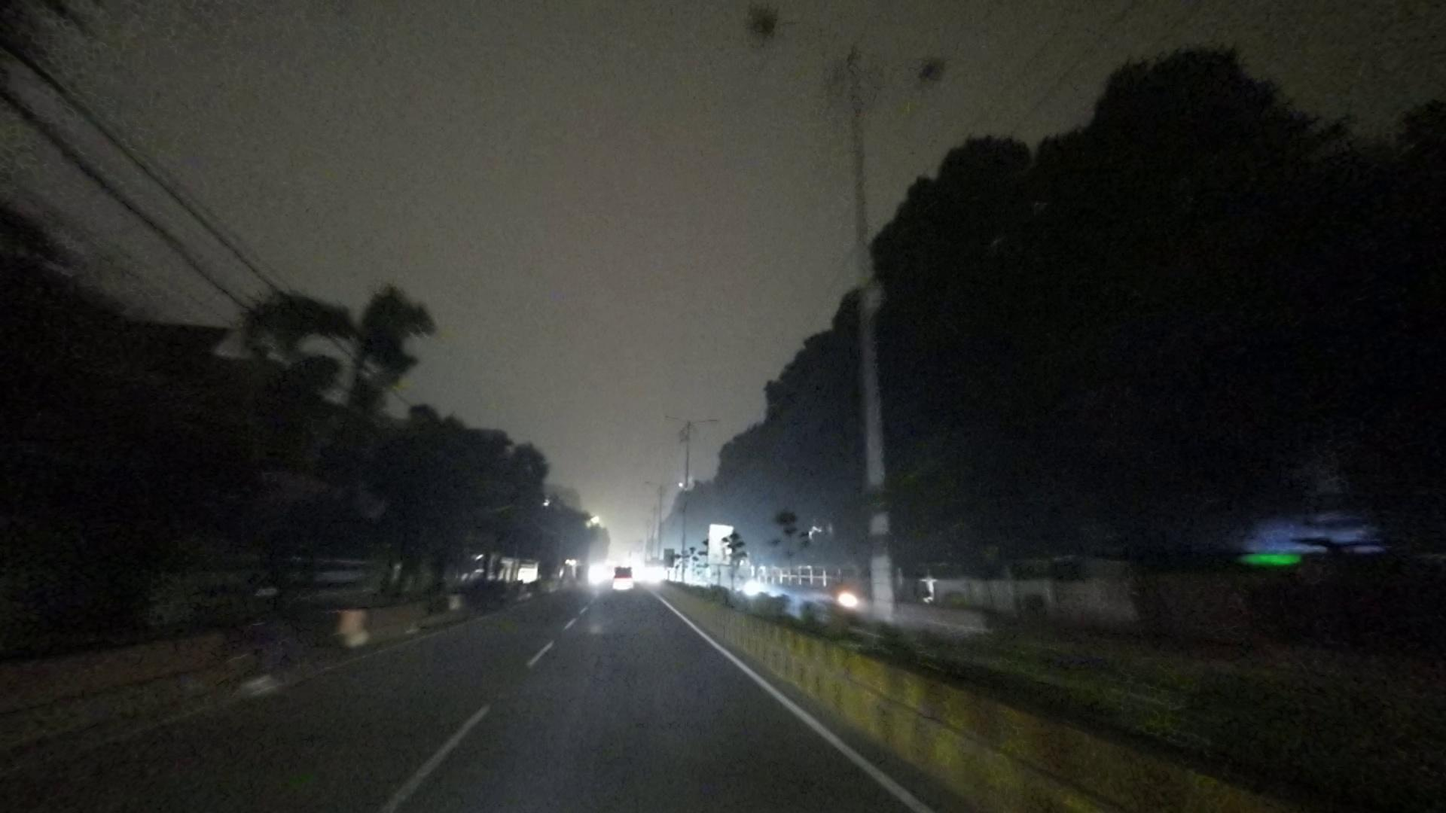streetlight: (748, 3, 848, 54), (867, 43, 952, 84)
